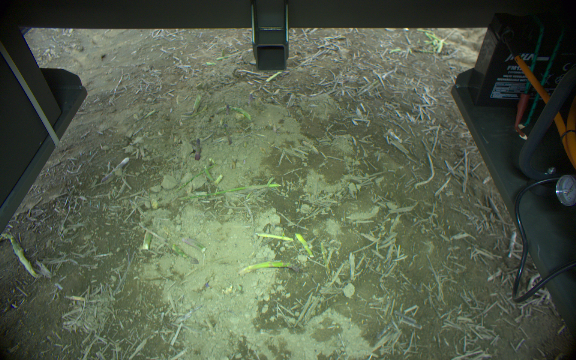aspa: (180, 181, 282, 203), (4, 230, 41, 281), (237, 253, 299, 276), (163, 240, 199, 265), (189, 93, 202, 115), (199, 164, 214, 182)
